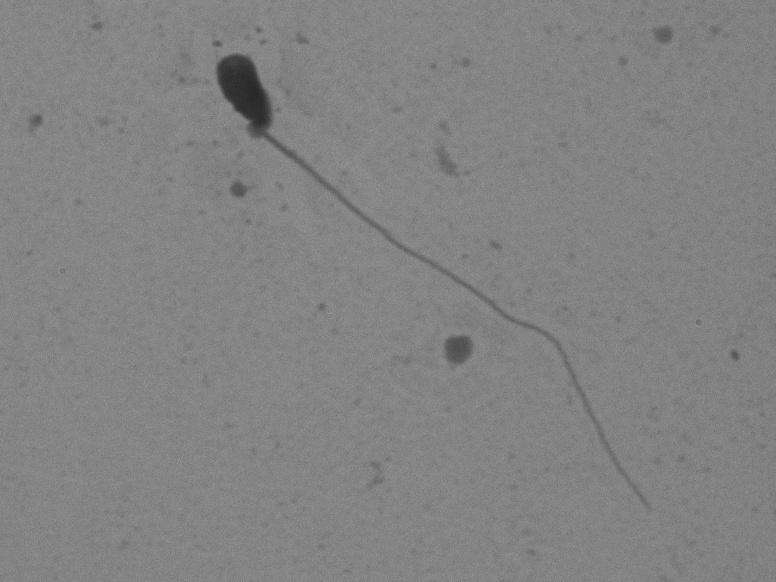Abnormal: (194, 30, 662, 544)
